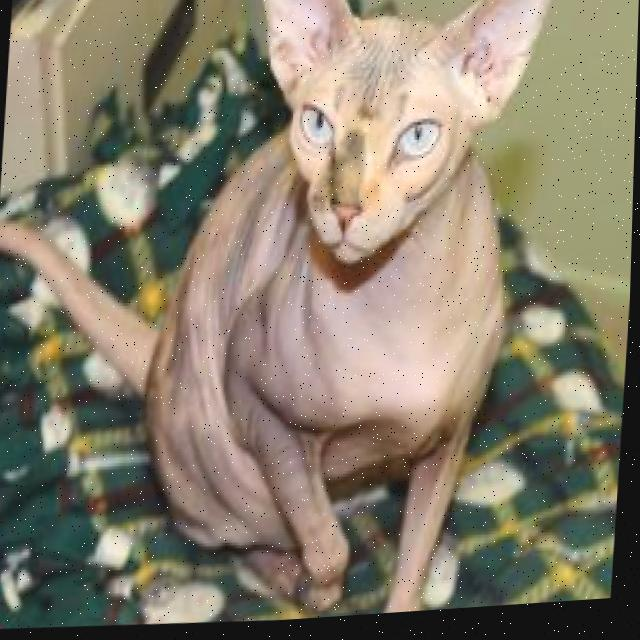Sphynx: (0, 0, 561, 640)
